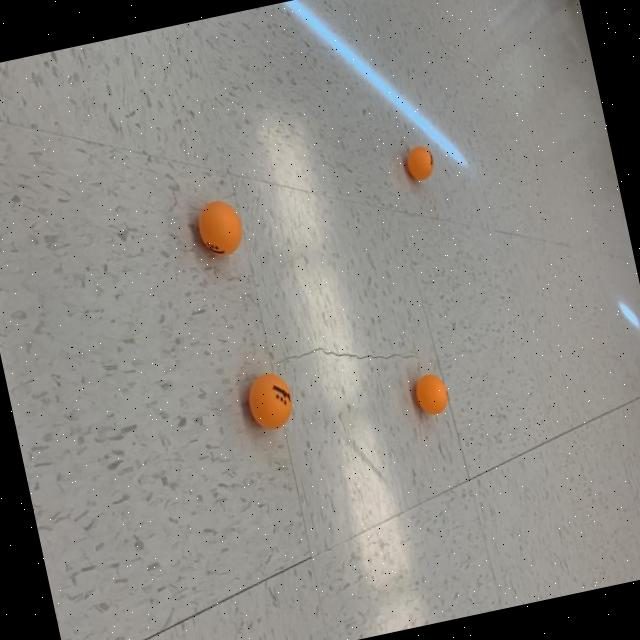ping-pong-ball: (188, 188, 250, 264), (240, 364, 302, 438), (408, 363, 457, 425), (401, 138, 441, 184)
